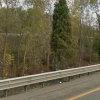Tree: (49, 2, 77, 70)
